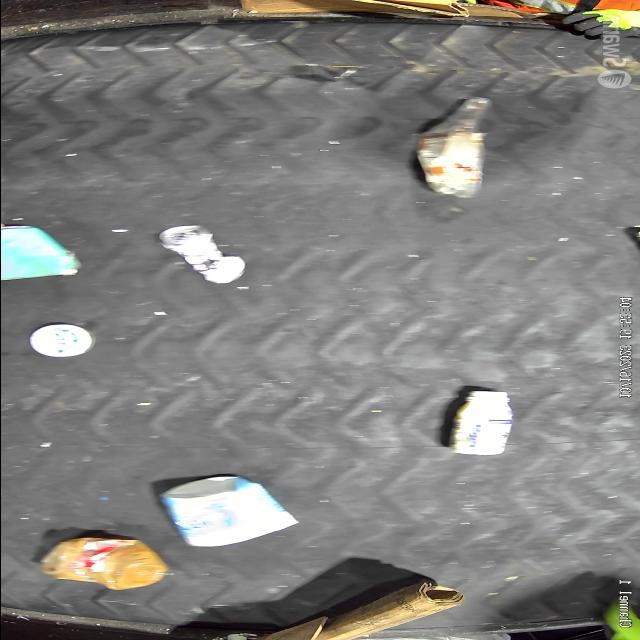can: (150, 216, 258, 282)
